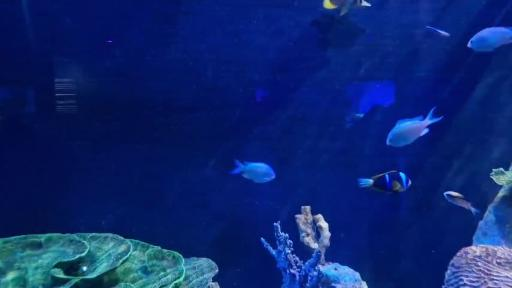Fish: (387, 108, 443, 146), (359, 171, 411, 193), (468, 27, 511, 51), (231, 160, 275, 182), (444, 191, 480, 216), (323, 0, 371, 15), (426, 27, 450, 37)
